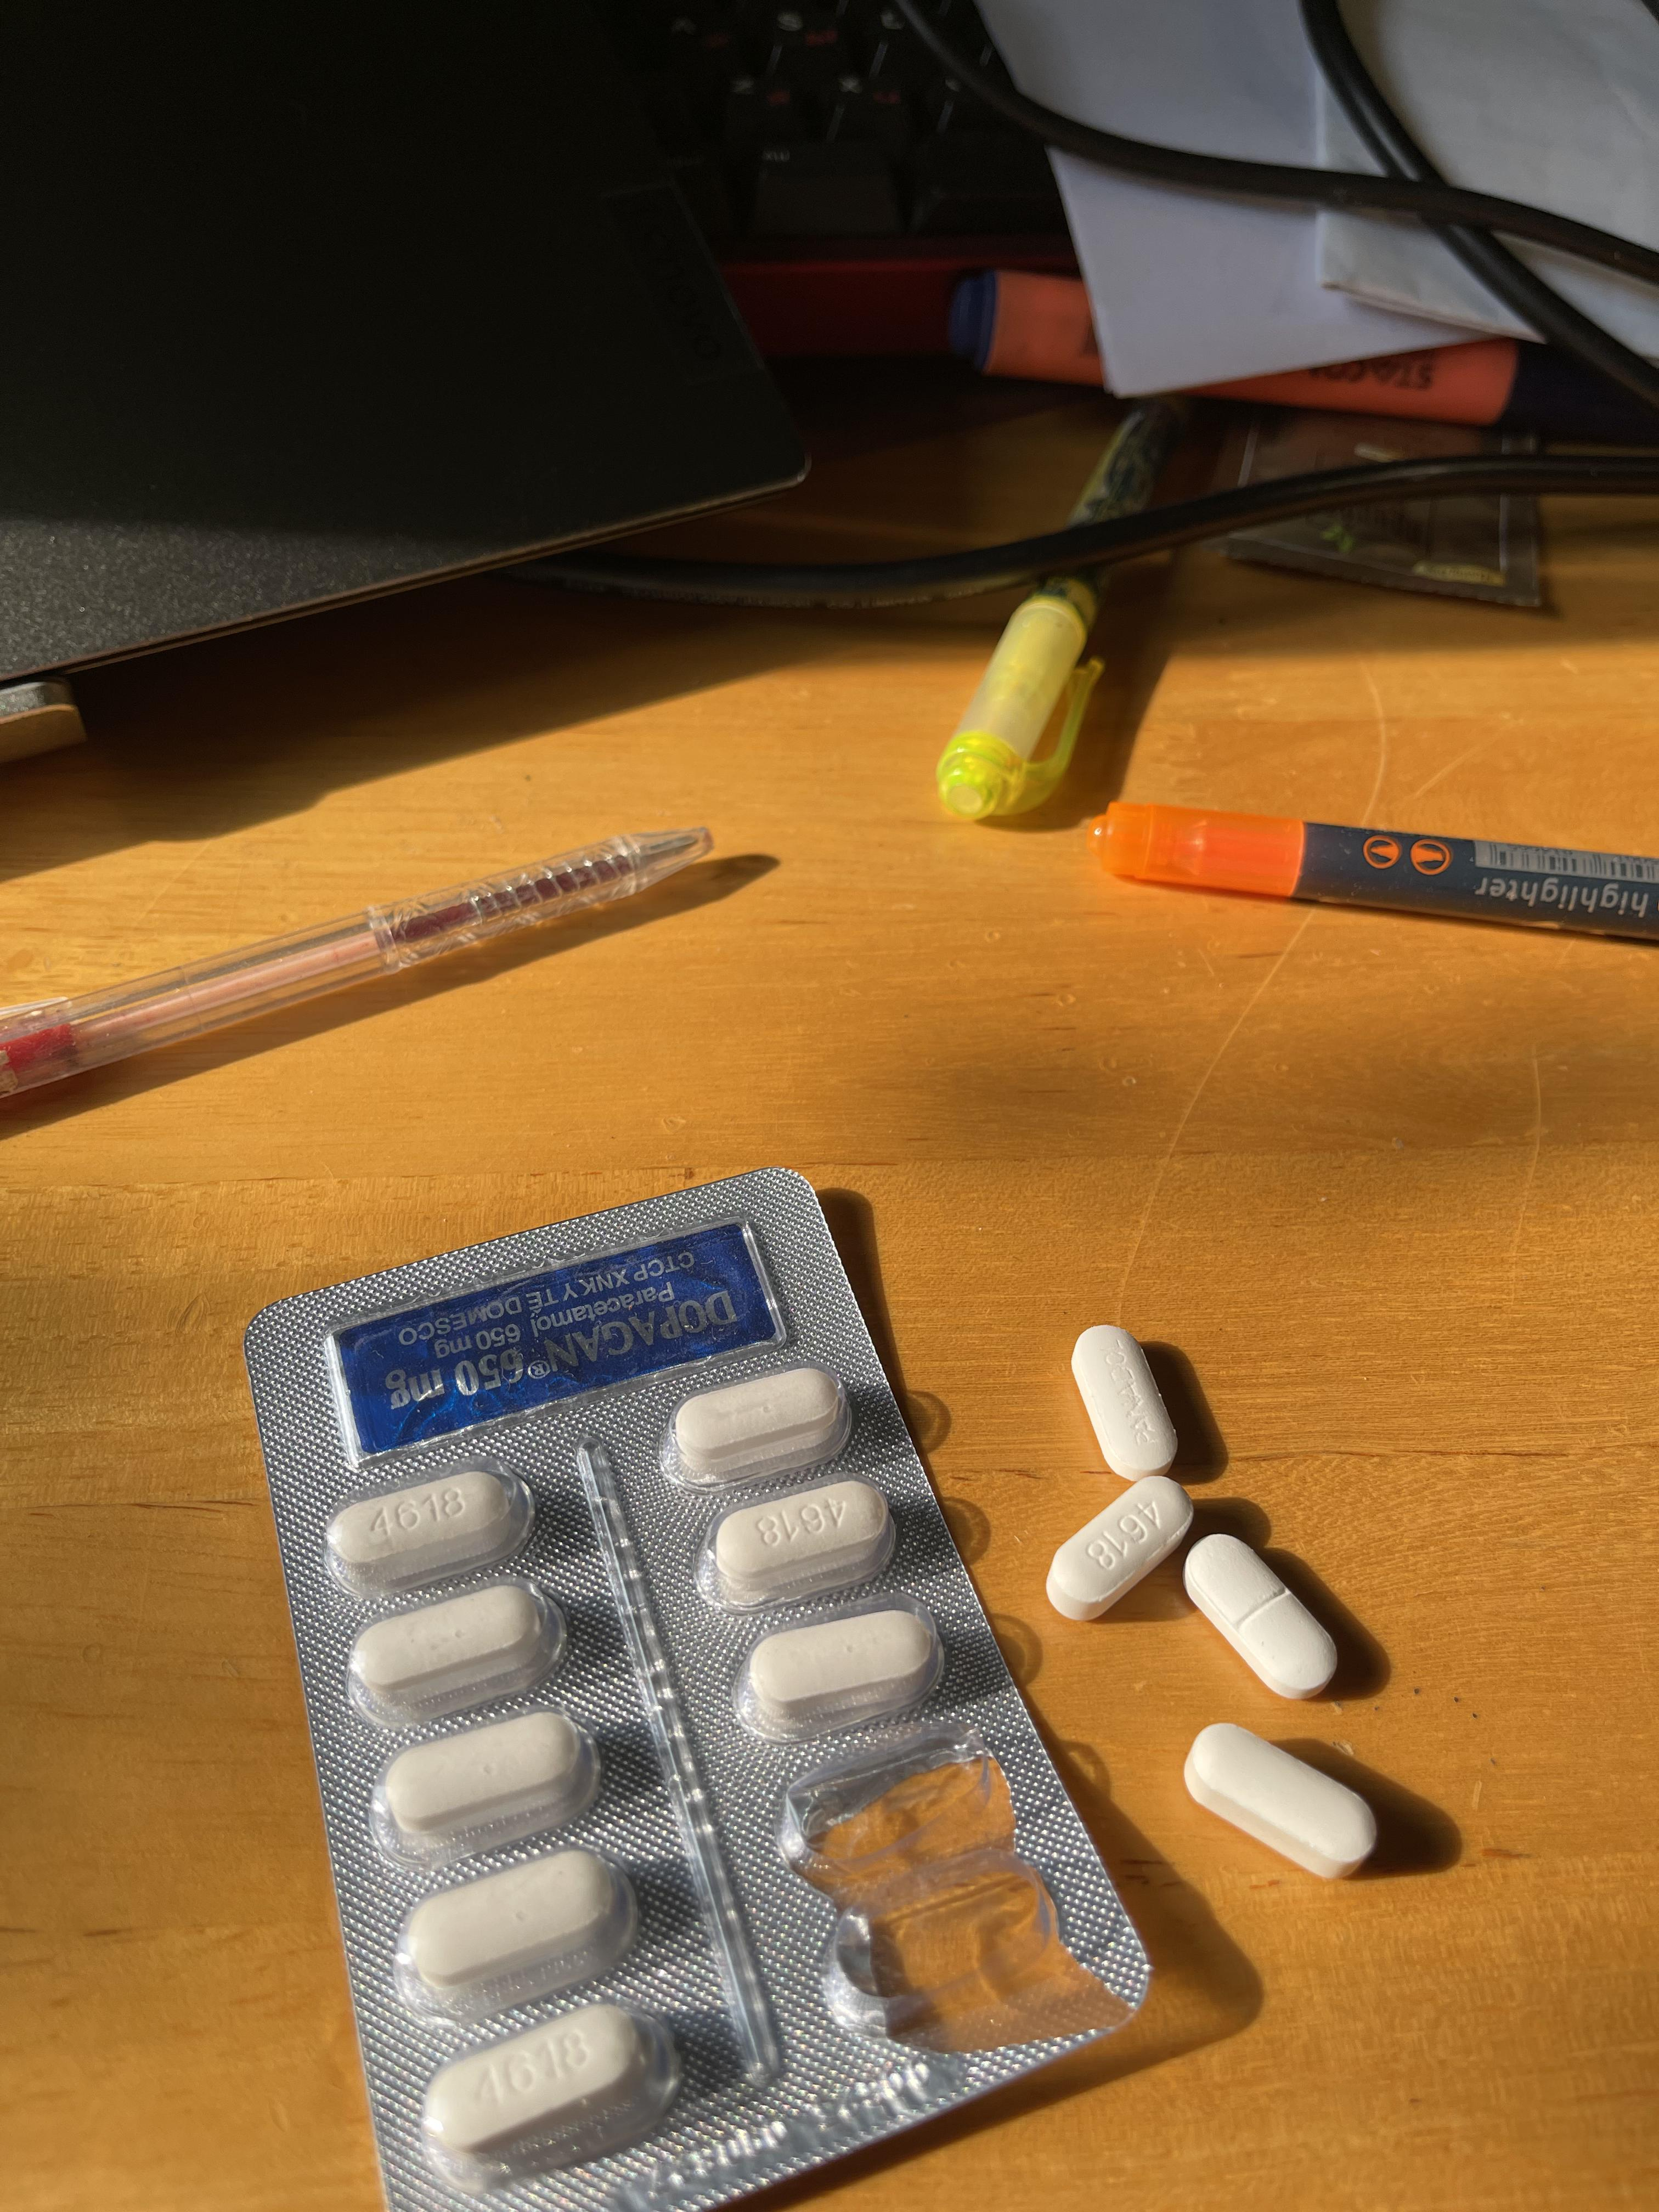Paracetamol_350mg: (1182, 1536, 1342, 1698), (1066, 1324, 1171, 1482)
Paracetamol_500mg: (397, 1843, 636, 2012), (423, 2001, 650, 2168), (347, 1576, 561, 1724), (1183, 1721, 1368, 1881), (380, 1709, 587, 1850), (735, 1604, 941, 1742), (326, 1463, 535, 1590), (708, 1477, 894, 1606), (1047, 1472, 1188, 1623), (669, 1364, 845, 1480)
